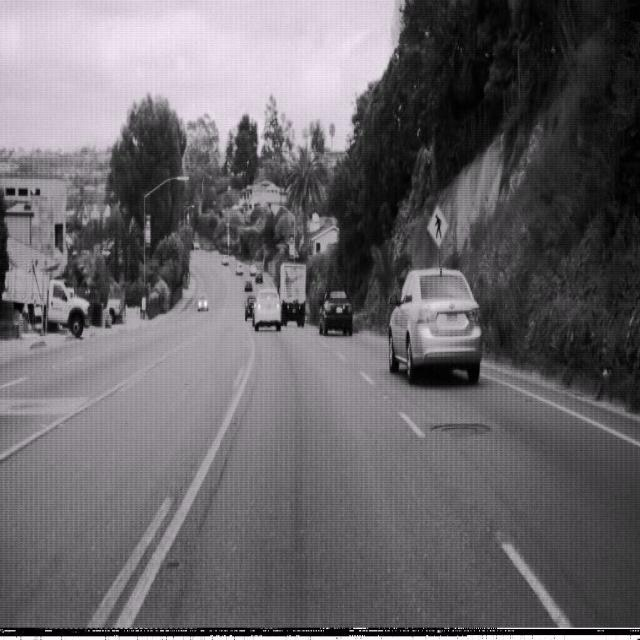pedestrianCrossing: (426, 204, 449, 250)
